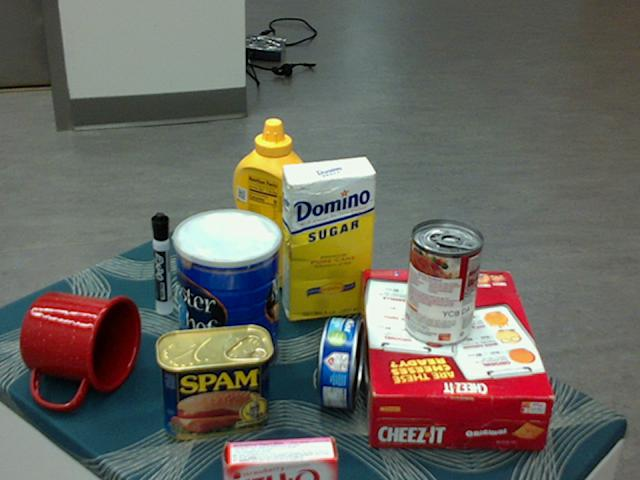cracker_box: (357, 272, 554, 446)
gelatin_box: (220, 436, 334, 479)
large_marker: (151, 211, 170, 314)
master_chef_can: (174, 209, 281, 383)
mug: (20, 291, 141, 408)
mustard_bottle: (232, 118, 312, 289)
potted_meat_can: (155, 325, 273, 439)
sugar_box: (281, 158, 376, 321)
tomato_soup_can: (402, 220, 483, 347)
tuna_fish_can: (317, 317, 364, 409)
